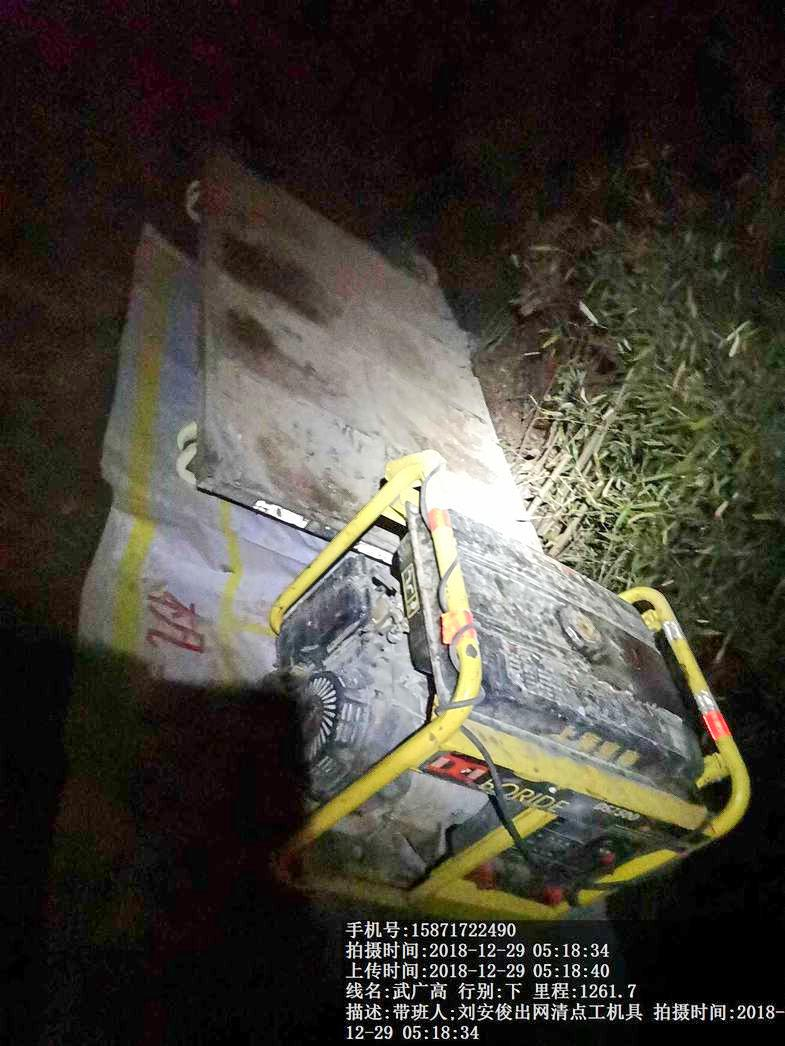DZ: (273, 452, 752, 933)
